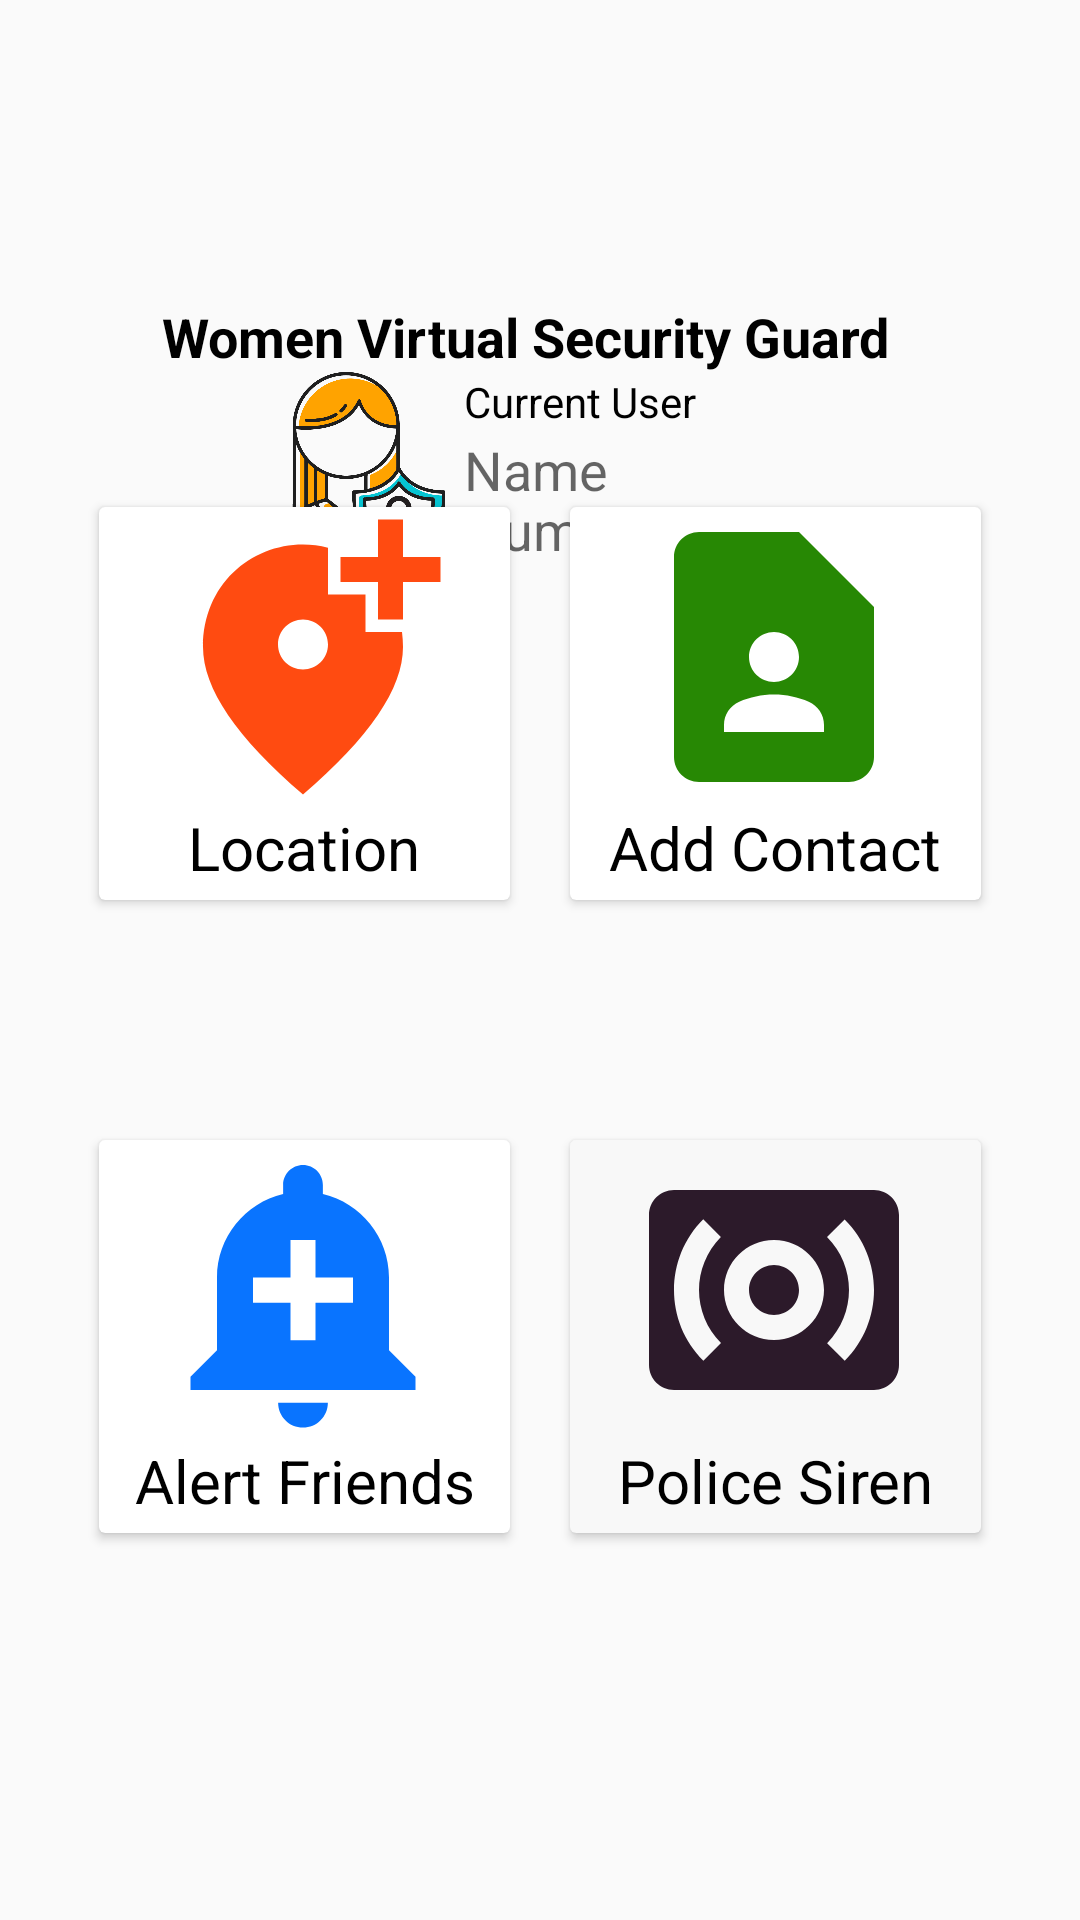

Icons on this 1080px×1920px Android screen, each with its box as (x1=x1, y1=y1, x2=x2, y2=y2):
emergency alert: (x1=190, y1=1165, x2=416, y2=1428)
